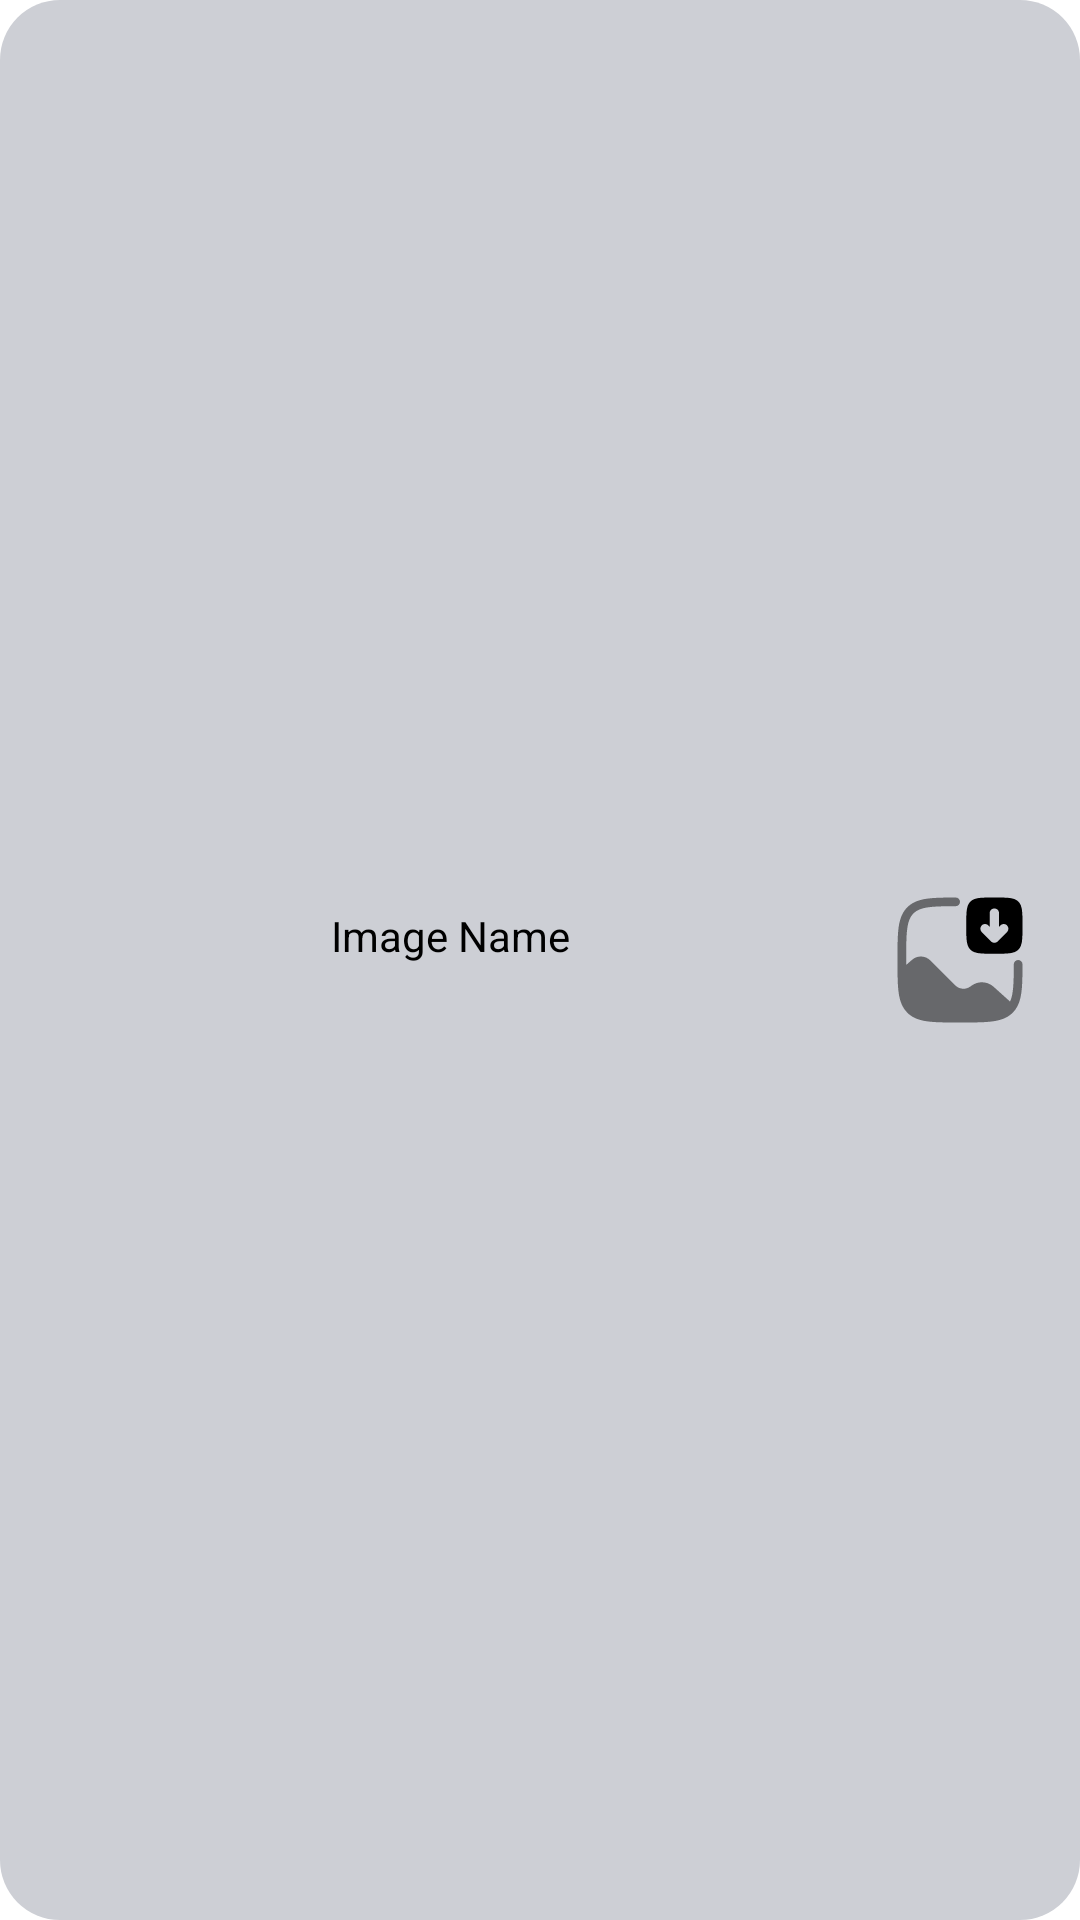

Locate icon controls on the screen. Image size 1080px x 1920px, boxes as box=[x1, y1, x2, y2].
download: box=[897, 897, 1023, 1023]
